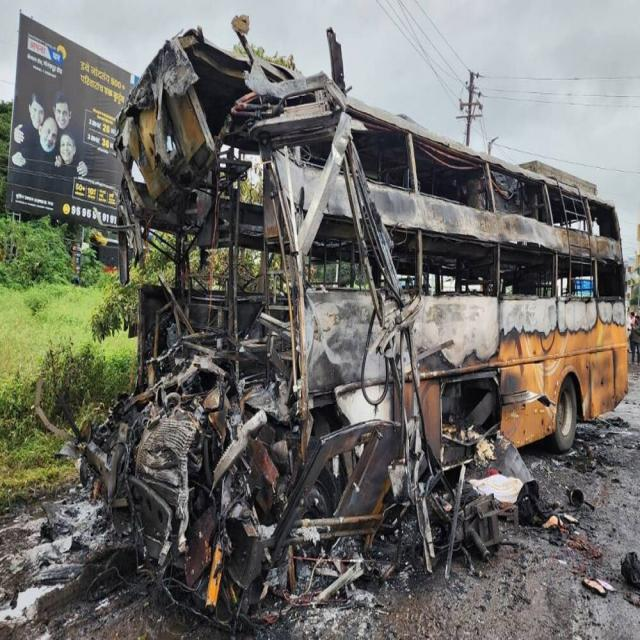accident: (79, 17, 628, 620)
